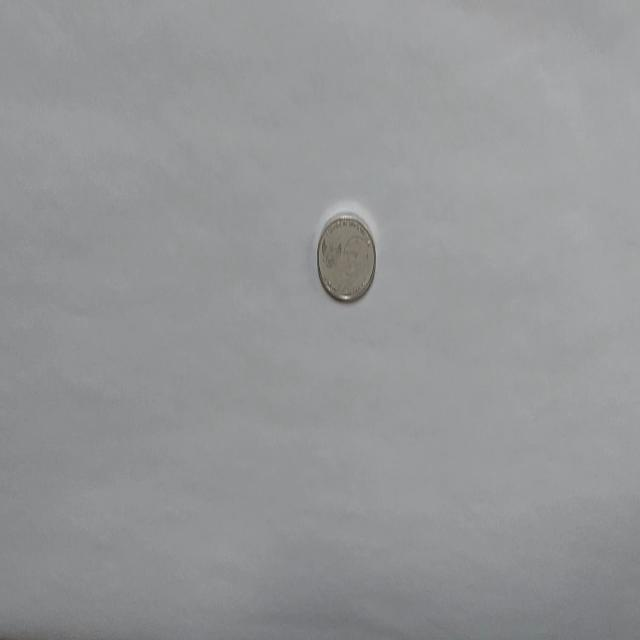lima ratus rupiah: (316, 212, 376, 304)
